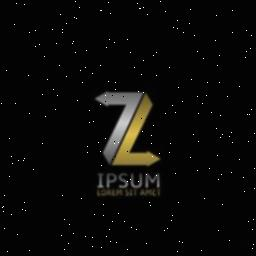z: (88, 87, 166, 171)
